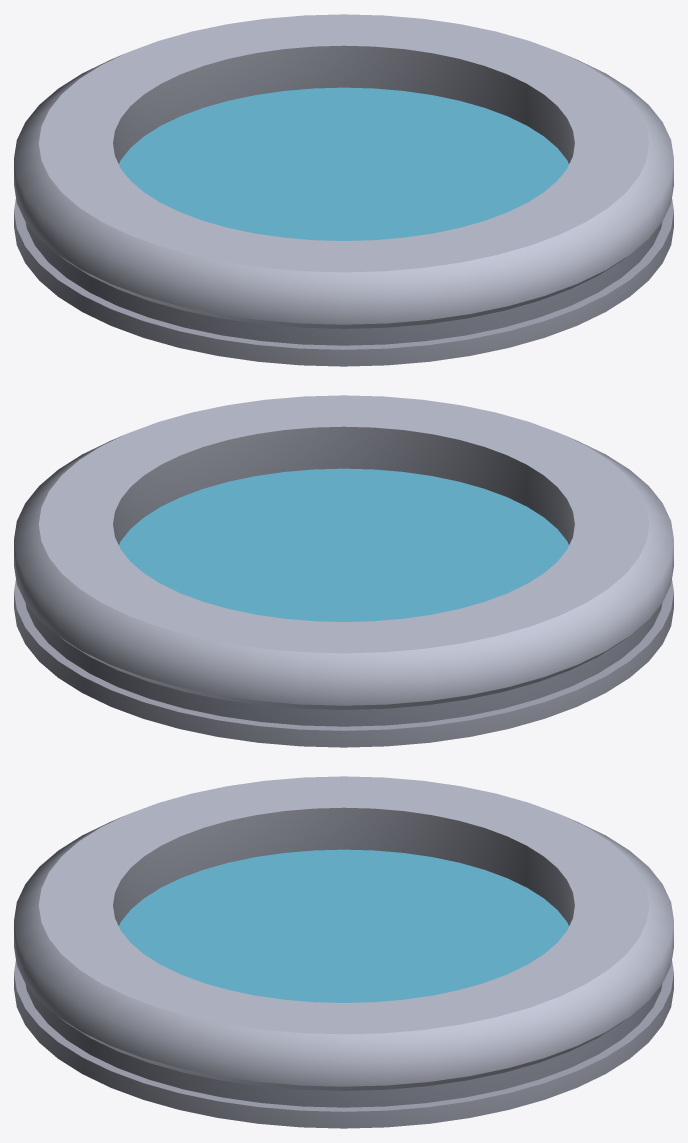
Rendered from fountain-round.glb.
3 renders of one model, top to bottom at view 1: azimuth 30°, elevation 25°; view 2: azimuth 150°, elevation 25°; view 3: azimuth 270°, elevation 25°, orthographic.
Visible parts, largest first — view 1: fountain-round; view 2: fountain-round; view 3: fountain-round.
Boxes of the visible parts, left/top/right/bottom form: fountain-round: left=14, top=14, right=673, bottom=366; fountain-round: left=14, top=395, right=673, bottom=747; fountain-round: left=14, top=776, right=673, bottom=1128.
Size of the model in its own units: 2 by 0.28 by 2.
